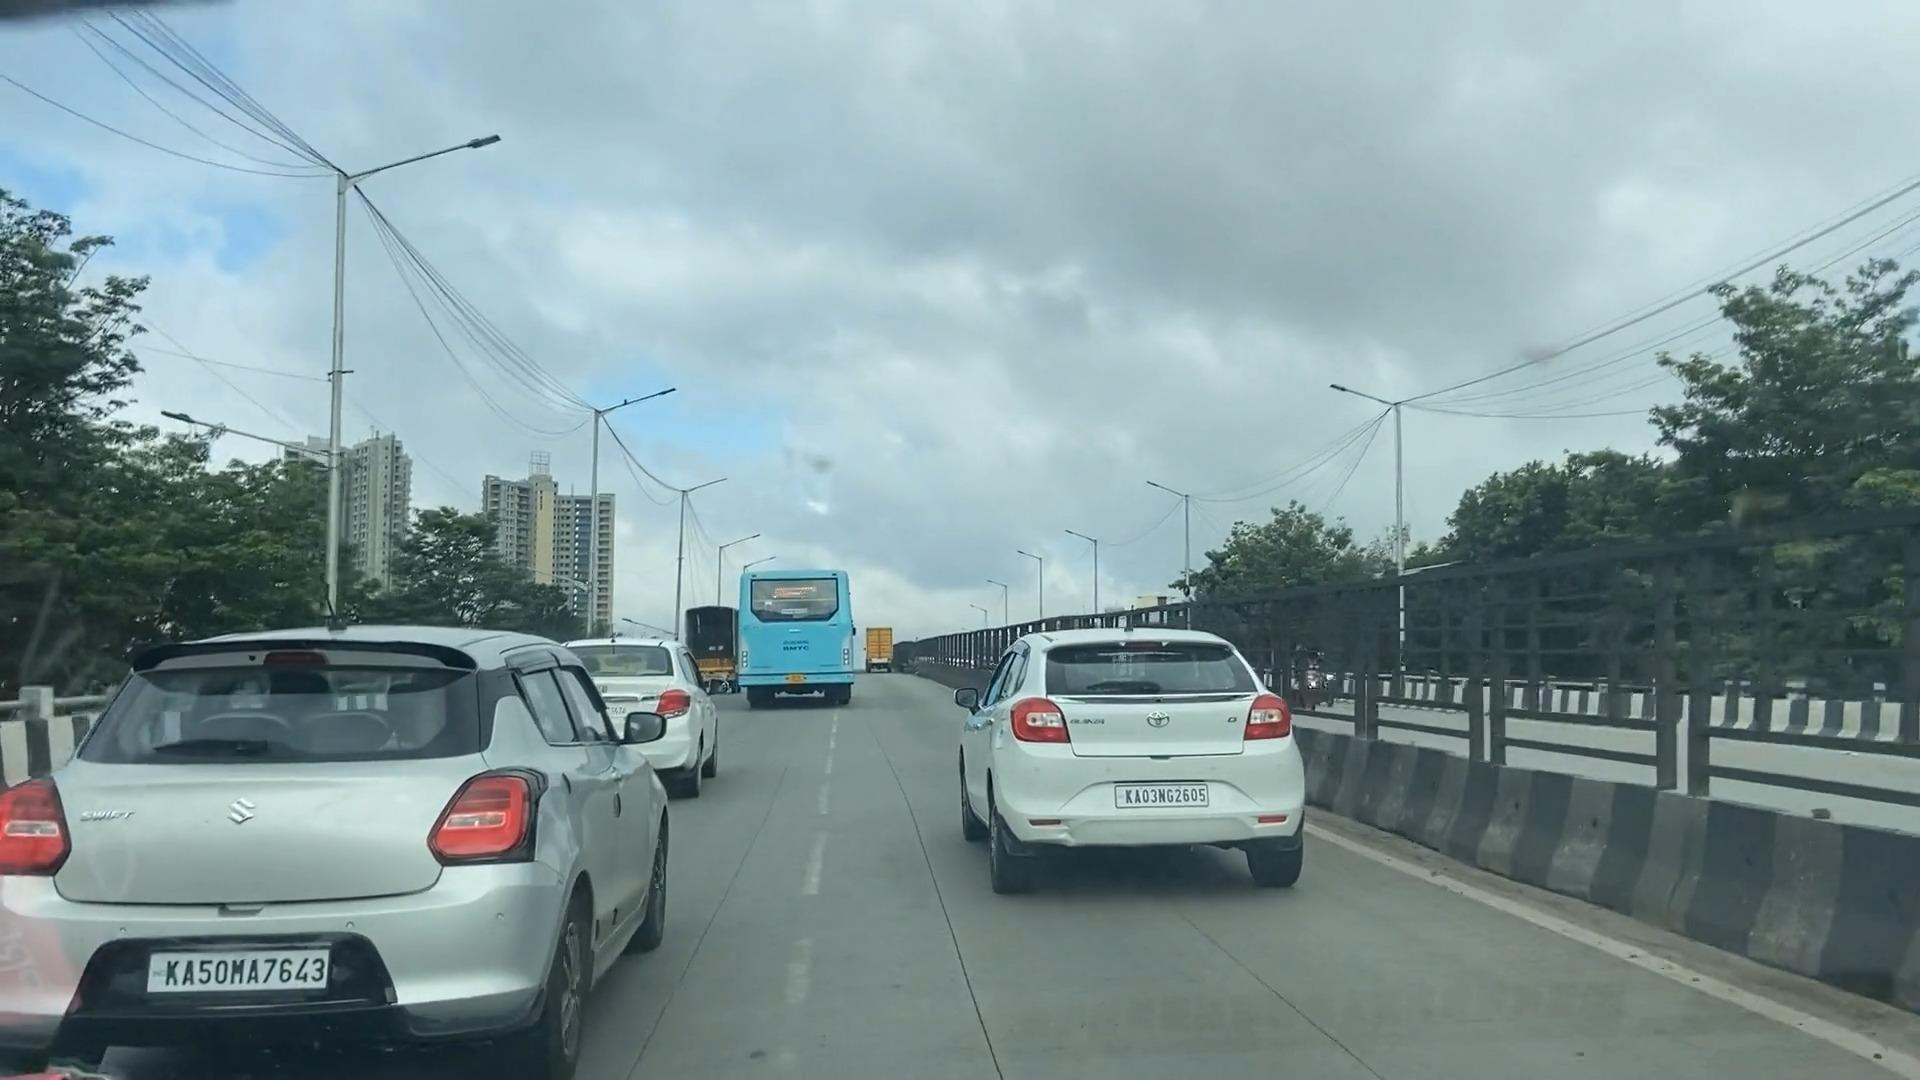HMV: (728, 546, 870, 737)
LMV: (0, 564, 669, 1080), (955, 616, 1358, 911)
